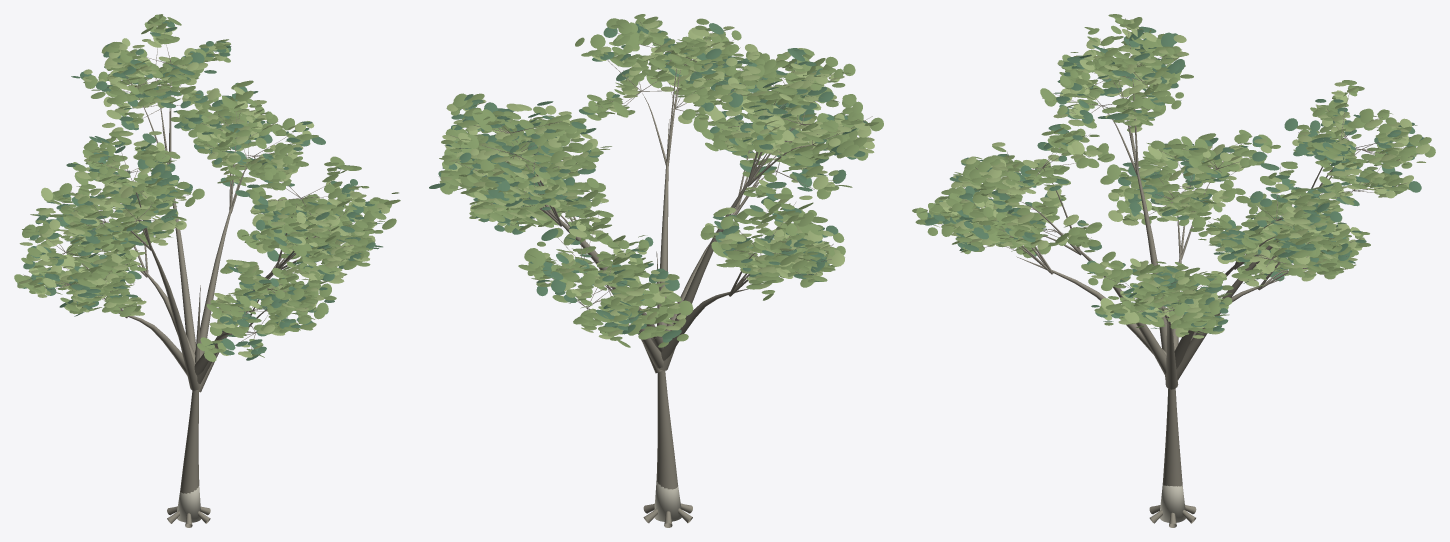
The model's file is tree1.glb.
3 renders of one model, left to right at view 1: azimuth 30°, elevation 25°; view 2: azimuth 150°, elevation 25°; view 3: azimuth 270°, elevation 25°, orthographic. The views are drawn at different scales.
Parts seen in each view (by area): view 1: Tree1_Leaf, Tree1_LeafLight, Tree1_LeafDark, Tree1_Trunk, Tree1_BarkLight; view 2: Tree1_Leaf, Tree1_LeafLight, Tree1_LeafDark, Tree1_Trunk, Tree1_BarkLight; view 3: Tree1_Leaf, Tree1_LeafLight, Tree1_LeafDark, Tree1_Trunk, Tree1_BarkLight.
Boxes of the visible parts, box(x1,y1,x2,y2) form: Tree1_Leaf: box(14, 14, 400, 361); Tree1_LeafLight: box(18, 23, 389, 357); Tree1_LeafDark: box(17, 20, 382, 360); Tree1_Trunk: box(23, 22, 382, 527); Tree1_BarkLight: box(177, 486, 200, 522); Tree1_Leaf: box(439, 14, 883, 347); Tree1_LeafLight: box(439, 21, 874, 339); Tree1_LeafDark: box(429, 23, 867, 342); Tree1_Trunk: box(438, 22, 872, 527); Tree1_BarkLight: box(654, 481, 681, 521); Tree1_Leaf: box(912, 14, 1435, 334); Tree1_LeafLight: box(929, 19, 1430, 338); Tree1_LeafDark: box(924, 26, 1423, 333); Tree1_Trunk: box(927, 18, 1413, 527); Tree1_BarkLight: box(1159, 485, 1185, 522).
Bounding box in the file's own units: 11.75 × 13.96 × 14.83.
